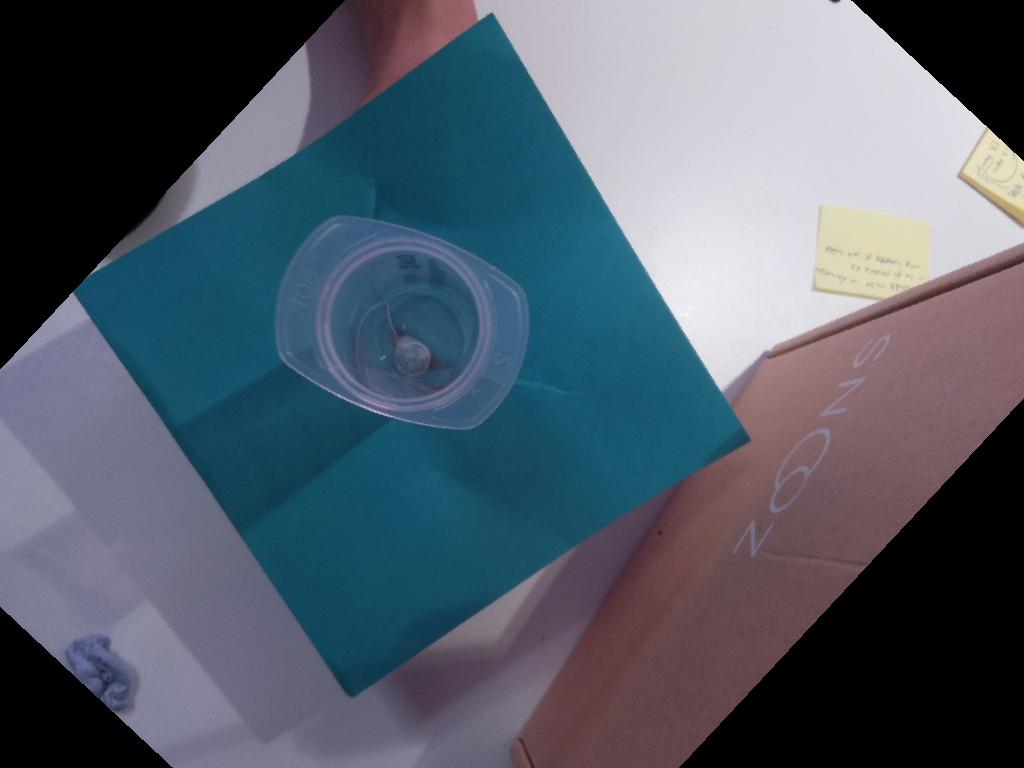clean: (272, 215, 532, 434)
